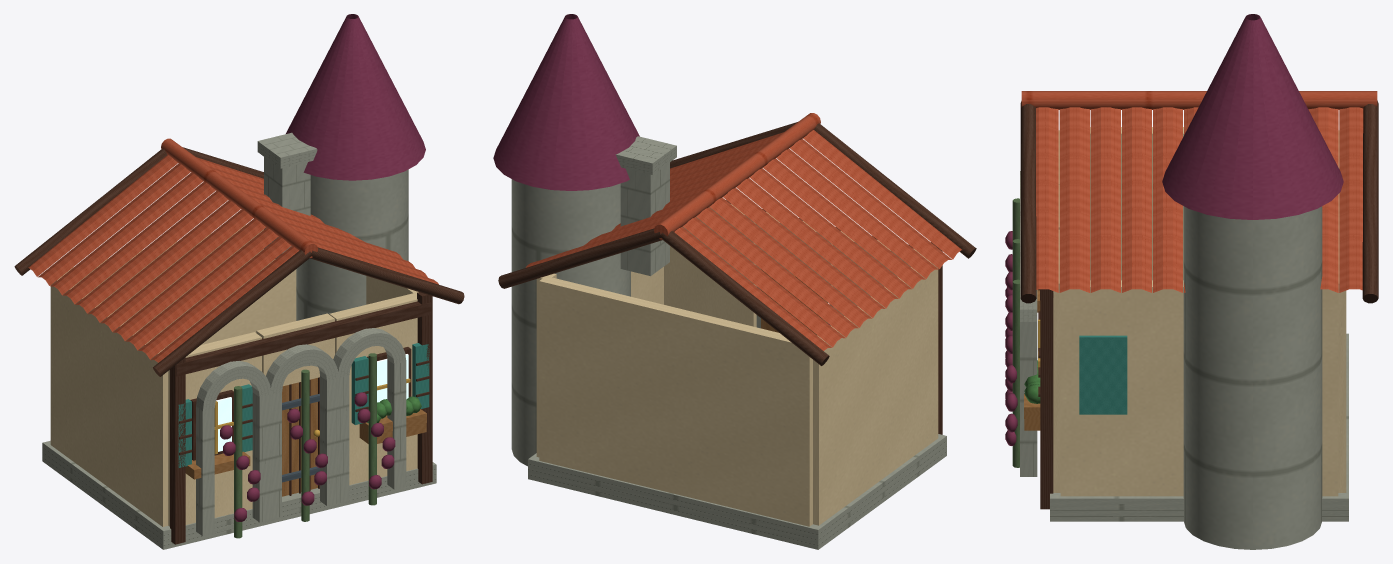
File: rose_manor.glb
3 renders of one model, left to right at view 1: azimuth 30°, elevation 25°; view 2: azimuth 150°, elevation 25°; view 3: azimuth 270°, elevation 25°, orthographic. The views are drawn at different scales.
Parts seen in each view (by area): view 1: rose_manor; view 2: rose_manor; view 3: rose_manor.
Part boxes in pixels (x1,y1,x2,y2): rose_manor: (14,14,464,549); rose_manor: (493,14,976,549); rose_manor: (1005,14,1378,549).
Size of the model in its own units: 4.71 by 5.2 by 3.49.
Materials: 12 (12 with a texture image).
